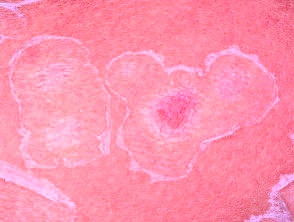SJS-TEN: (113, 48, 289, 193), (5, 27, 114, 179)
